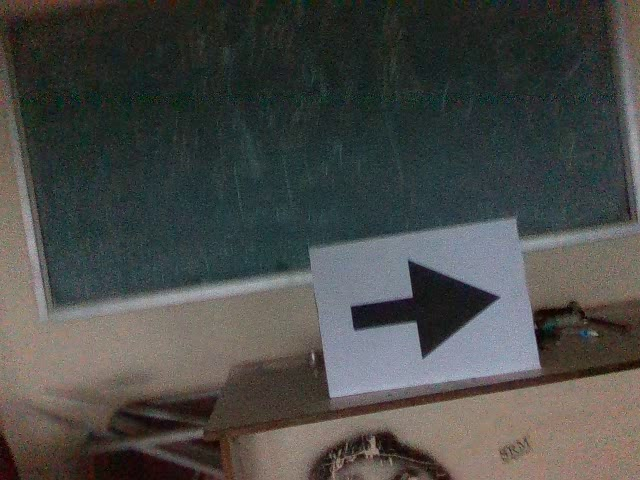Right: (344, 255, 505, 361)
